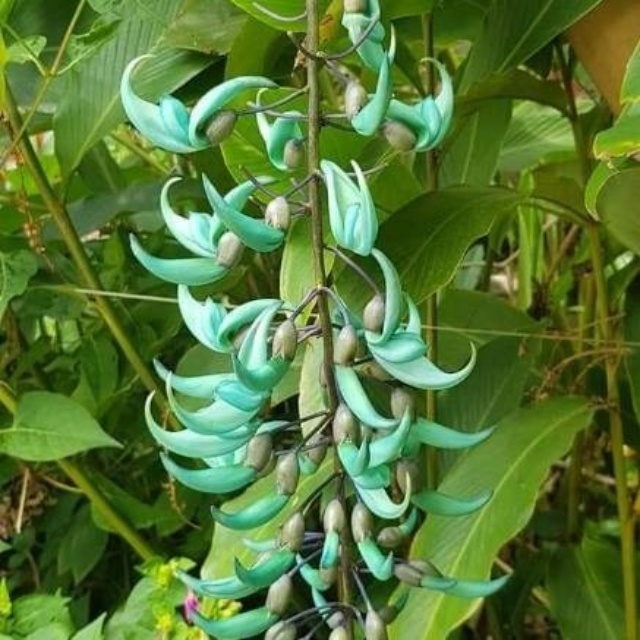obstacle: (124, 62, 542, 602)
